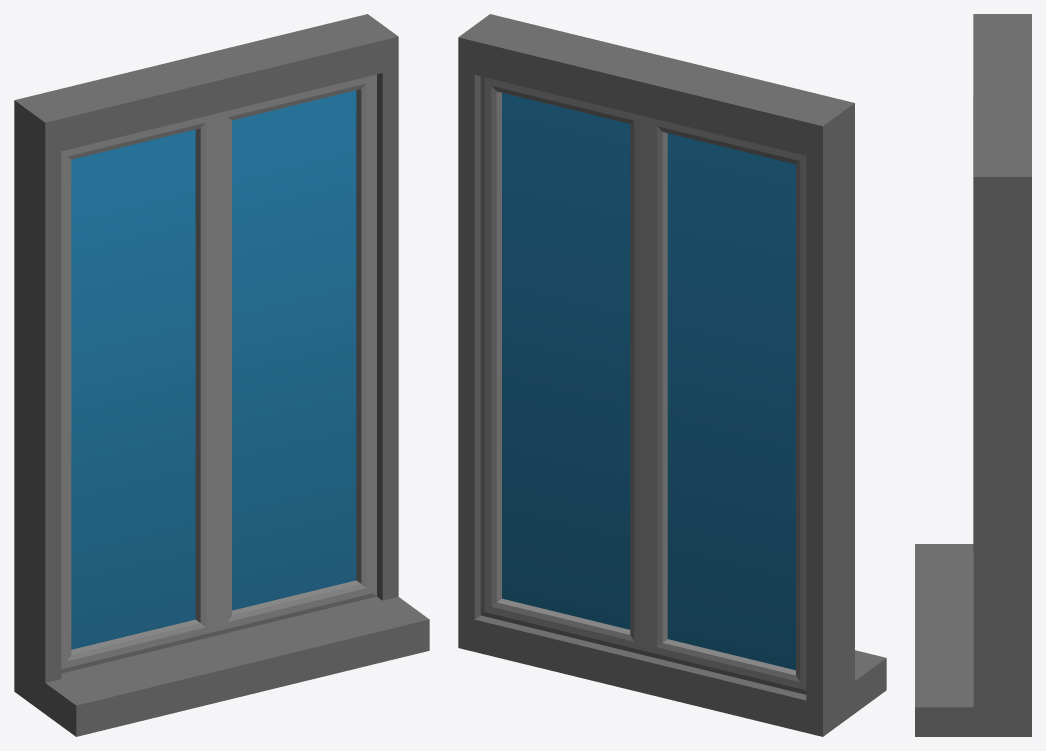
File: Window05.fbx
The picture shows the model from 3 angles, left to right: view 1: azimuth 30°, elevation 25°; view 2: azimuth 150°, elevation 25°; view 3: azimuth 270°, elevation 25°; orthographic projection. The views are drawn at different scales.
Parts seen in each view (by area): view 1: Window05; view 2: Window05; view 3: Window05.
Boxes of the visible parts, bbox=[...] form: Window05: bbox=[14, 14, 429, 736]; Window05: bbox=[458, 14, 886, 736]; Window05: bbox=[915, 14, 1031, 736].
Size of the model in its own units: 66 by 106 by 20.
